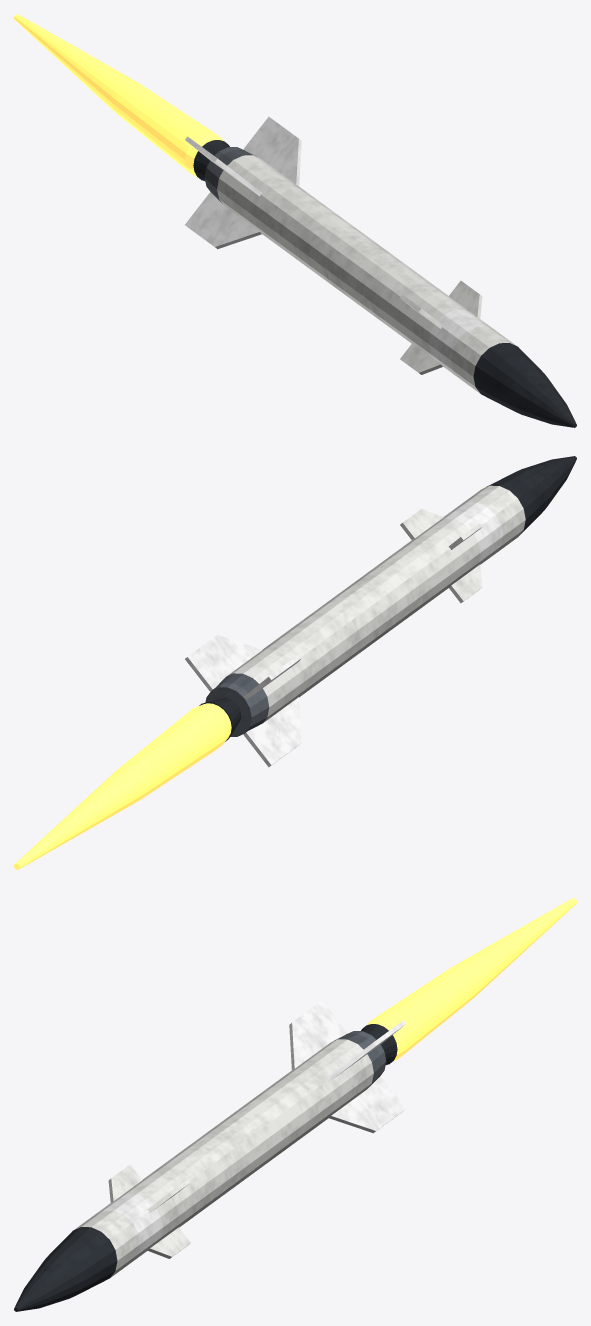
Rendered from sam_missile.gltf.
The picture shows the model from 3 angles, top to bottom: view 1: azimuth 30°, elevation 25°; view 2: azimuth 150°, elevation 25°; view 3: azimuth 330°, elevation 25°; orthographic projection.
Parts seen in each view (by area): view 1: SAMMissile; view 2: SAMMissile; view 3: SAMMissile.
Part boxes in pixels (left/top/right/bottom): SAMMissile: left=14, top=14, right=576, bottom=427; SAMMissile: left=14, top=456, right=576, bottom=869; SAMMissile: left=14, top=898, right=576, bottom=1311.
Size of the model in its own units: 0.1329 by 0.1329 by 1.48.
Materials: 5 (4 with a texture image).
